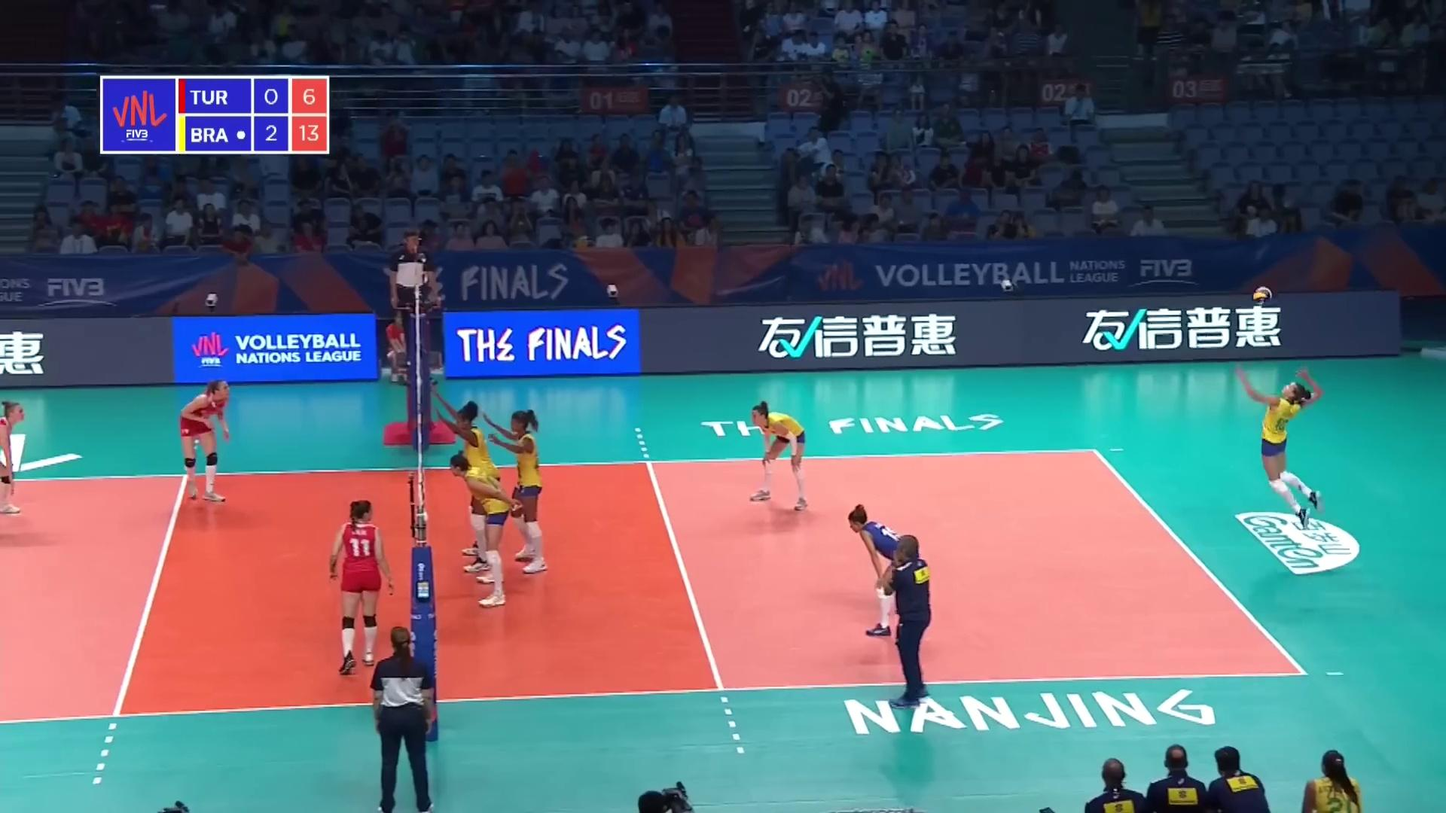player: (1238, 364, 1325, 526), (430, 390, 501, 572), (328, 500, 396, 677), (449, 450, 523, 606), (487, 408, 547, 572), (847, 508, 922, 639), (750, 402, 812, 510), (179, 381, 231, 504), (0, 401, 27, 518)
refree: (374, 627, 434, 813), (392, 233, 438, 376)
